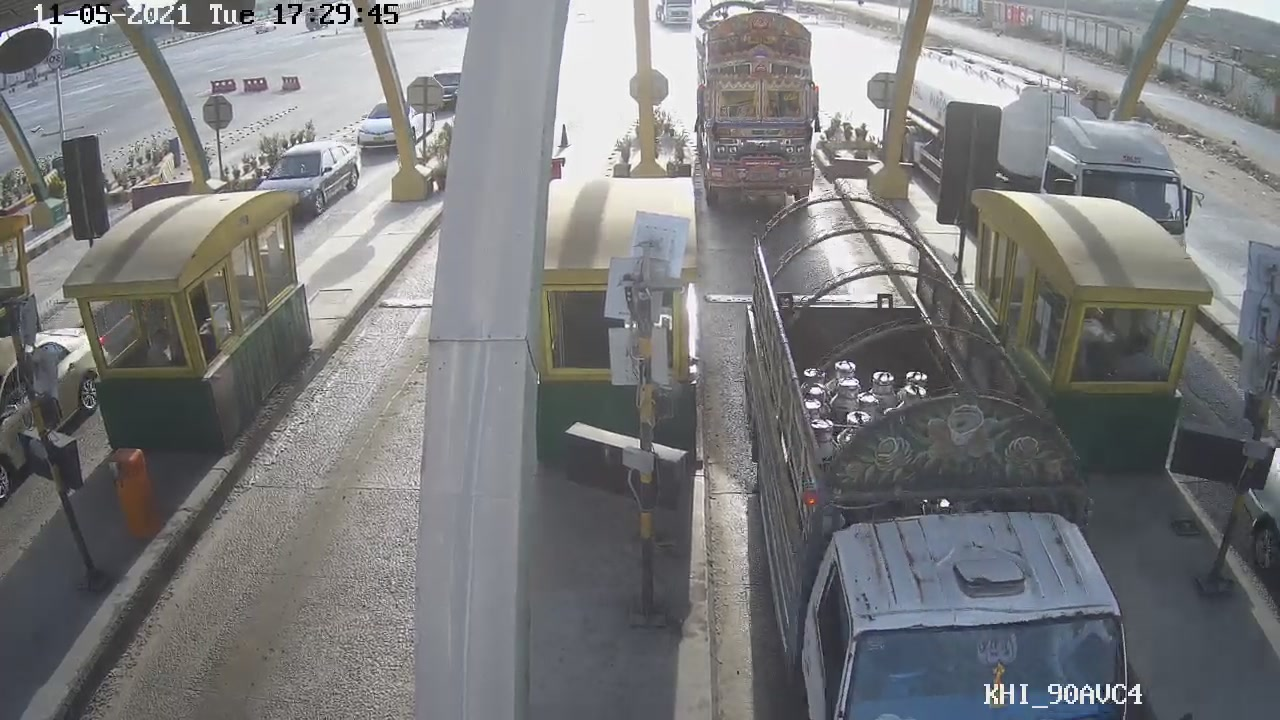F5: (686, 1, 838, 228)
